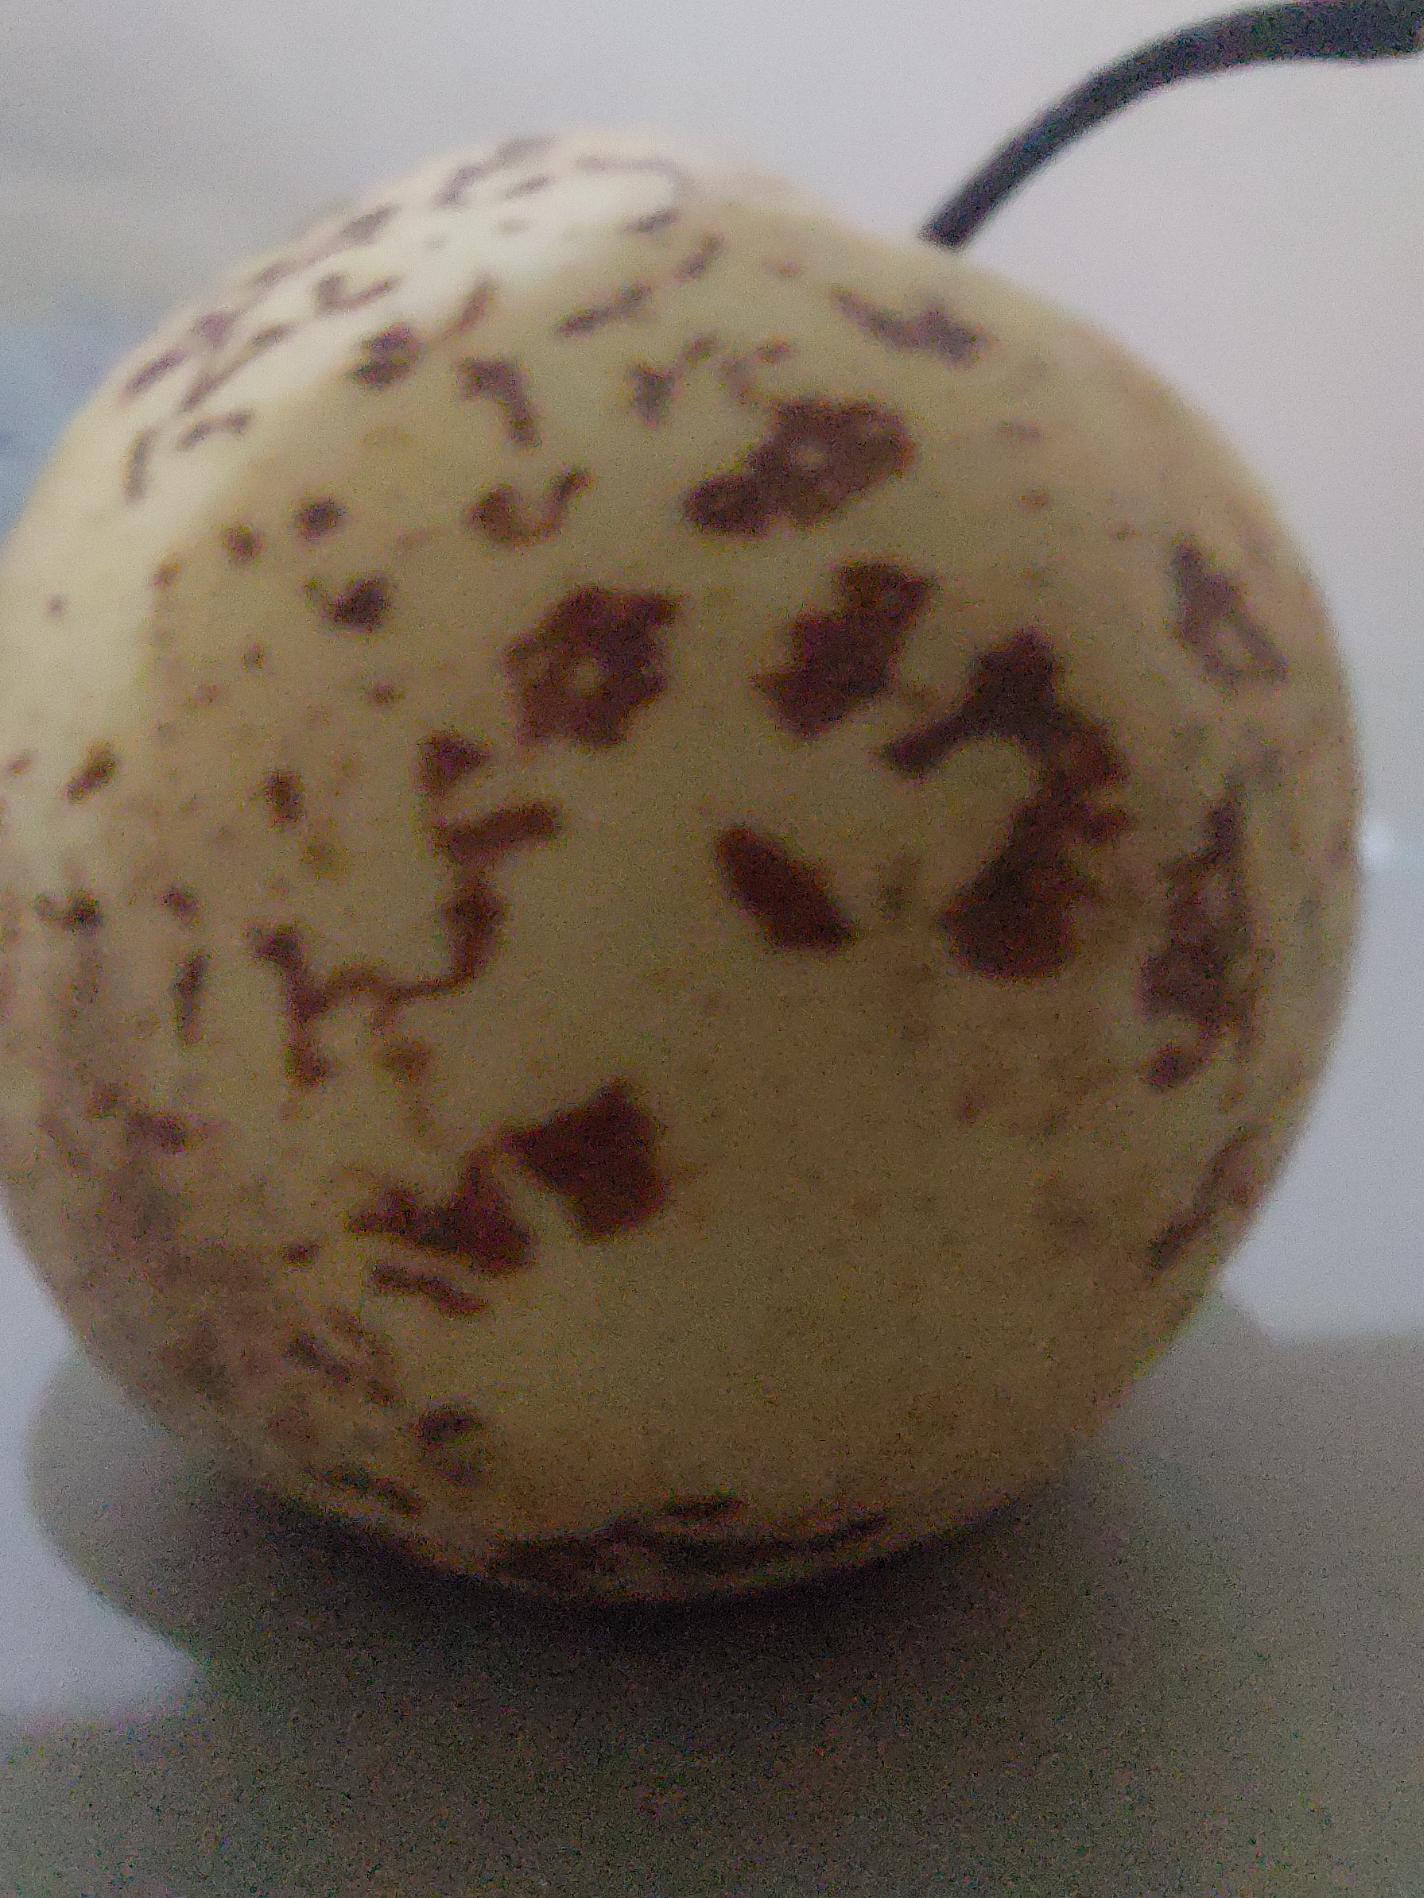Bad Pear: (0, 102, 1393, 1611)
